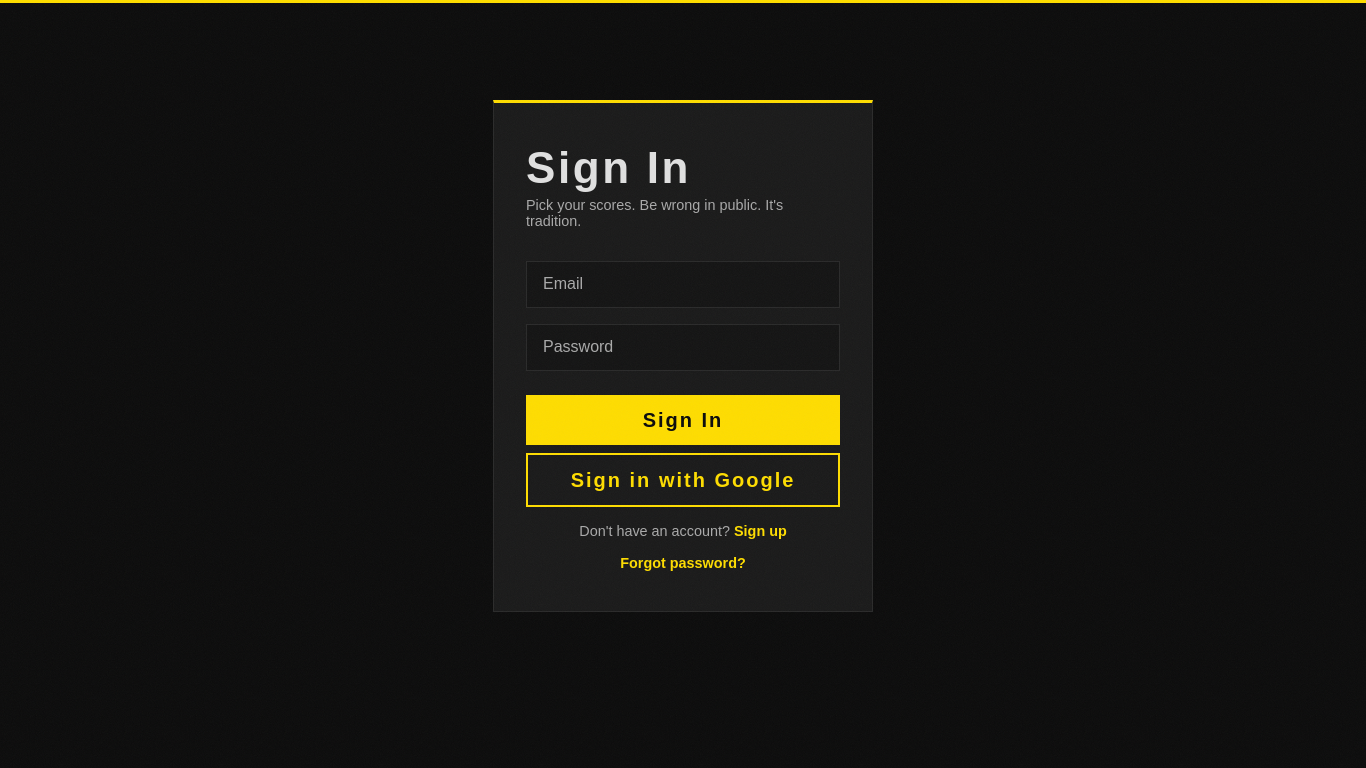
Scenario: LoginView › shows "Google sign-in failed" when signInWithGoogle rejects
Click the button with test id "google-signin" at (683, 480), box [526,453,840,507]
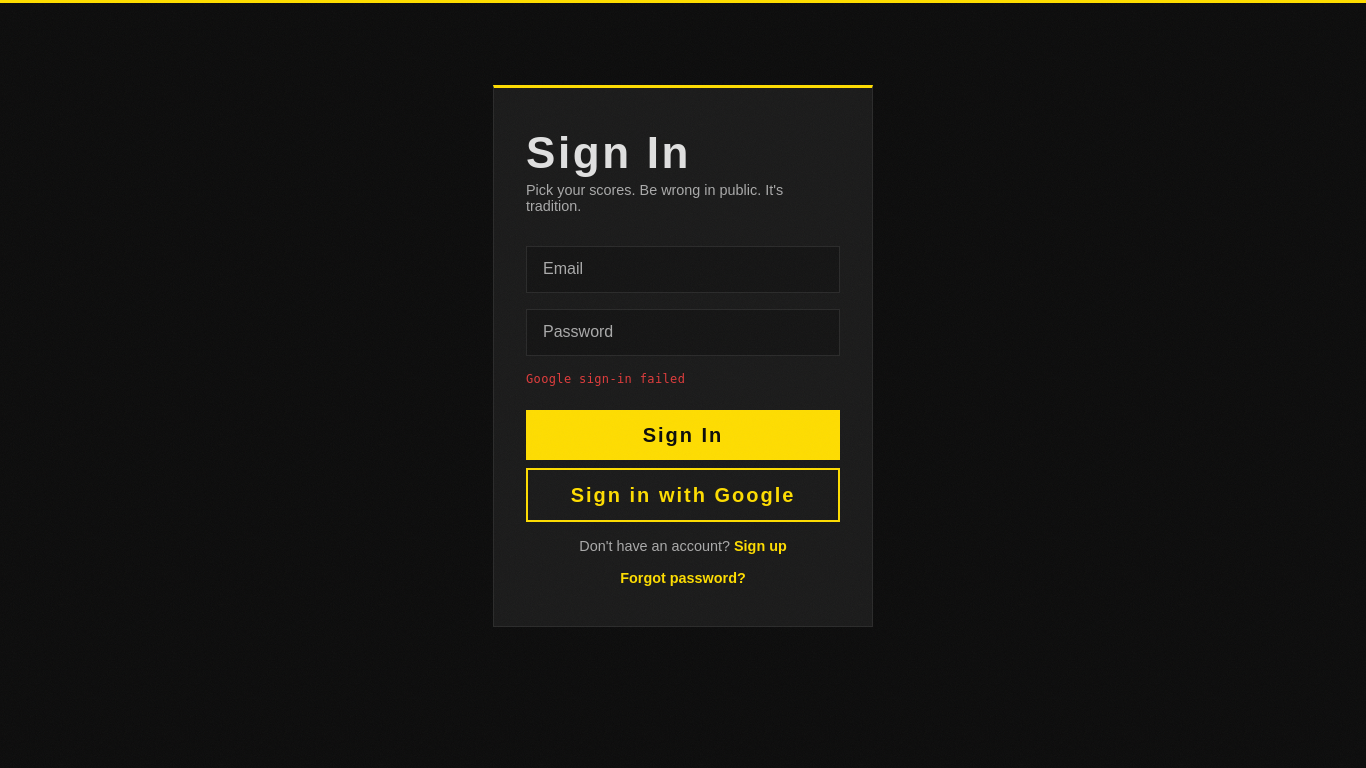
Expected: the text with class "form-error" reads "Google sign-in failed", [526,372,685,386]
